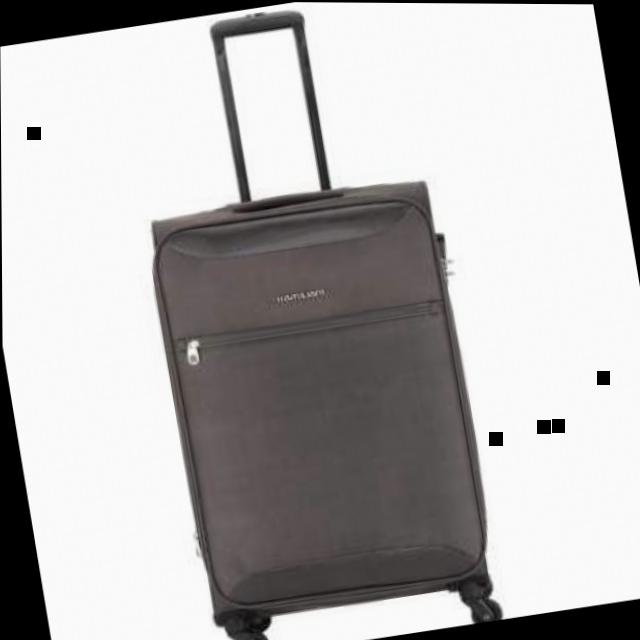luggage: (129, 159, 511, 640)
